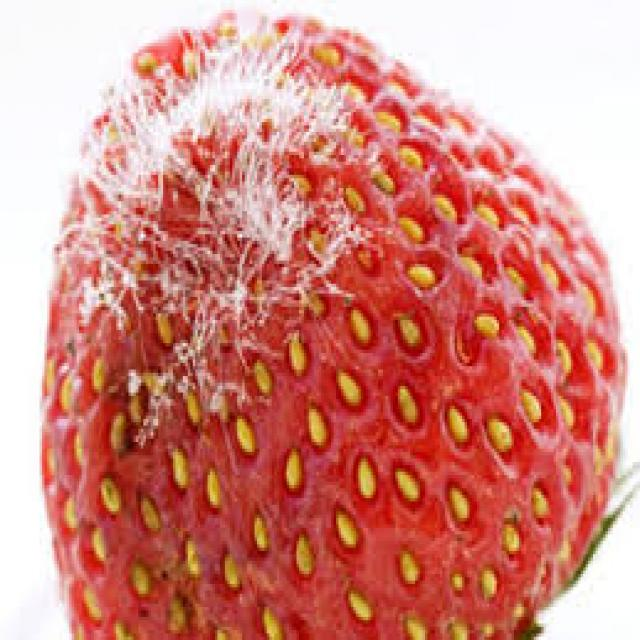organic waste: (35, 0, 638, 637)
